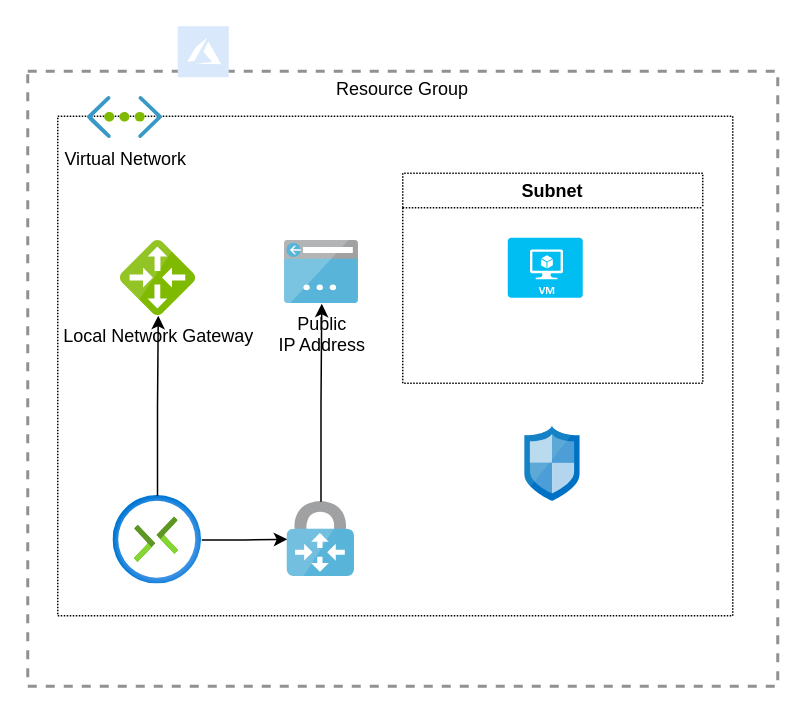
The diagram is 804 pixels wide and 714 high, and some of its shapes have lost their labels. Each missing label, with the centre of its shape:
Connection: point 156,539
Network Security Group: point 552,463
Virtual Network Gateway: point 320,538
